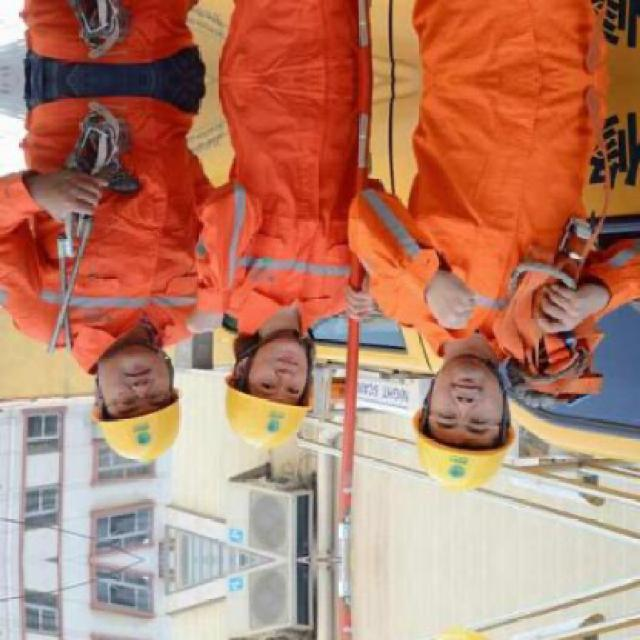con casco: (398, 346, 541, 512), (61, 328, 205, 480), (240, 315, 334, 468)
